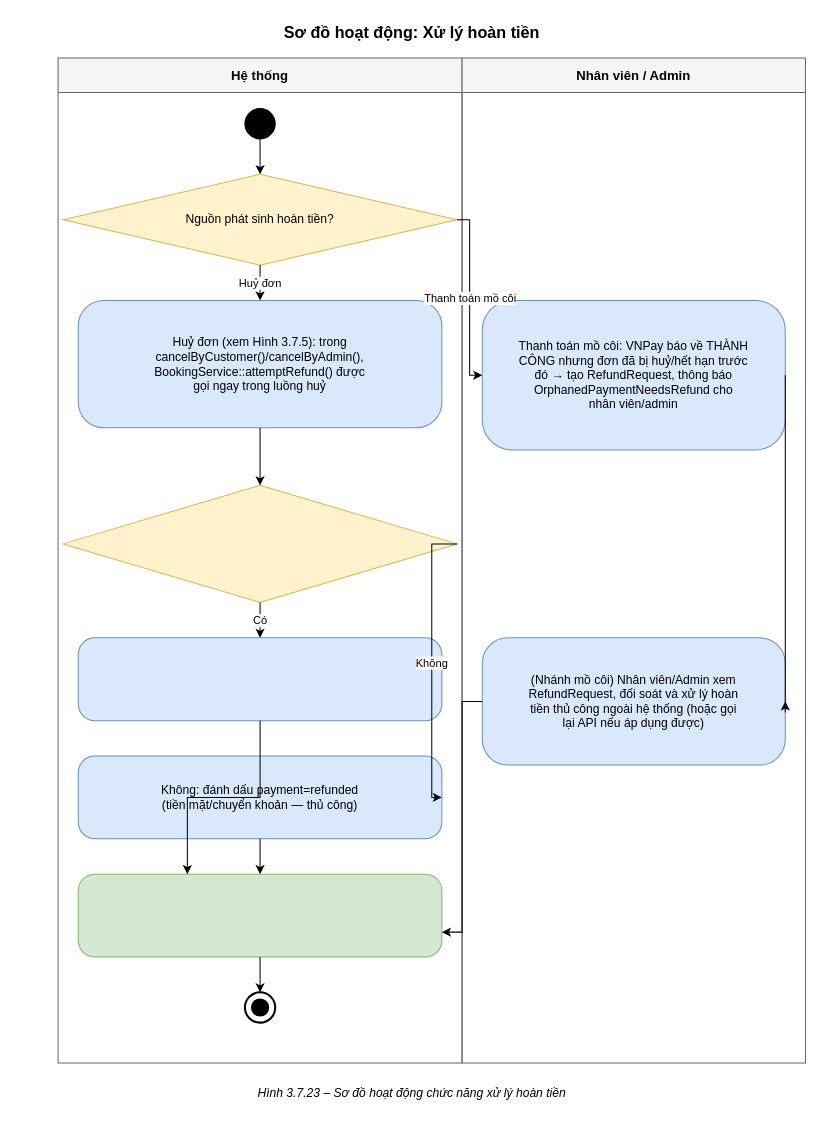
Image size: 823x1125. Some labels were removed from this diagram. The shapes that lost their labels are listed below. From the top down, each one's box as (x1, y1, x2, y2) in pixels, then its label:
(62, 484, 457, 602): (Nhánh huỷ đơn) Đã thu tiền qua VNPay?
(77, 637, 442, 721): Có: gọi VNPayService::refund() (API thật, ký HMAC)
(77, 873, 442, 957): Cập nhật trạng thái hoàn tiền, ghi log
